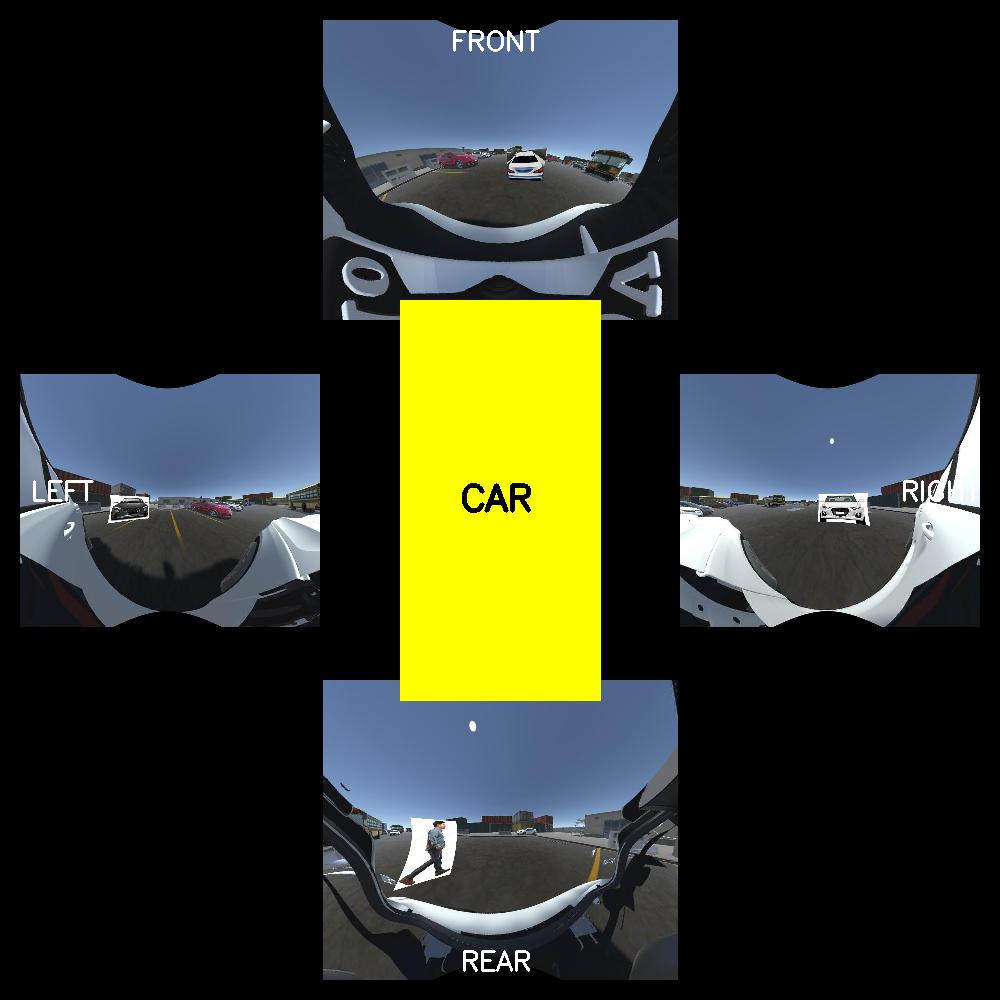Car: (818, 494, 869, 525), (505, 152, 545, 179), (109, 494, 148, 520)
objects: (407, 819, 458, 885)
